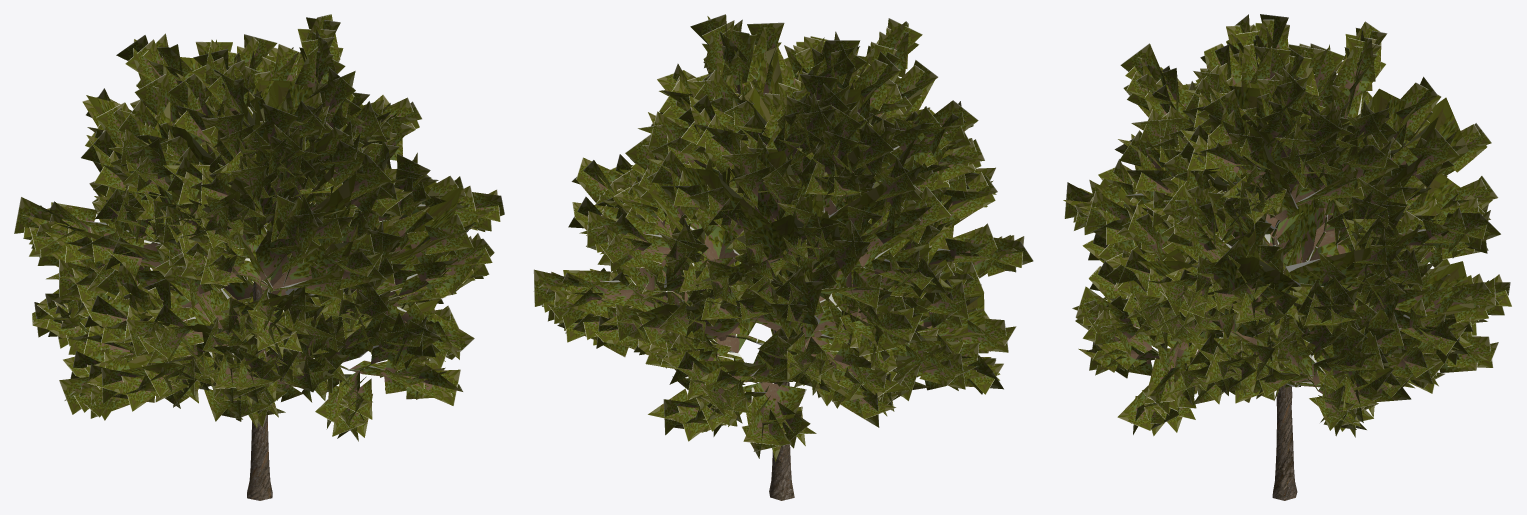
The model's file is SM_Tree_15.fbx.
3 renders of one model, left to right at view 1: azimuth 30°, elevation 25°; view 2: azimuth 150°, elevation 25°; view 3: azimuth 270°, elevation 25°, orthographic. The views are drawn at different scales.
Visible parts, largest first — view 1: SM_Tree_15; view 2: SM_Tree_15; view 3: SM_Tree_15.
Part boxes in pixels (x1=…): SM_Tree_15: x1=14, y1=14, x2=504, y2=500; SM_Tree_15: x1=533, y1=14, x2=1033, y2=500; SM_Tree_15: x1=1063, y1=14, x2=1512, y2=500.
Bounding box in the file's own units: 521 × 563 × 504.
